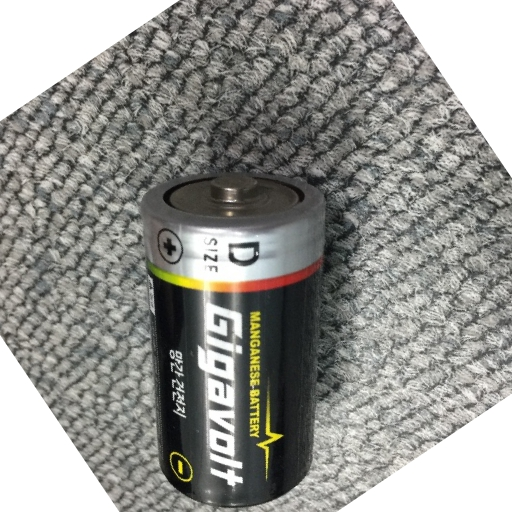Battery_0: (128, 161, 326, 509)
